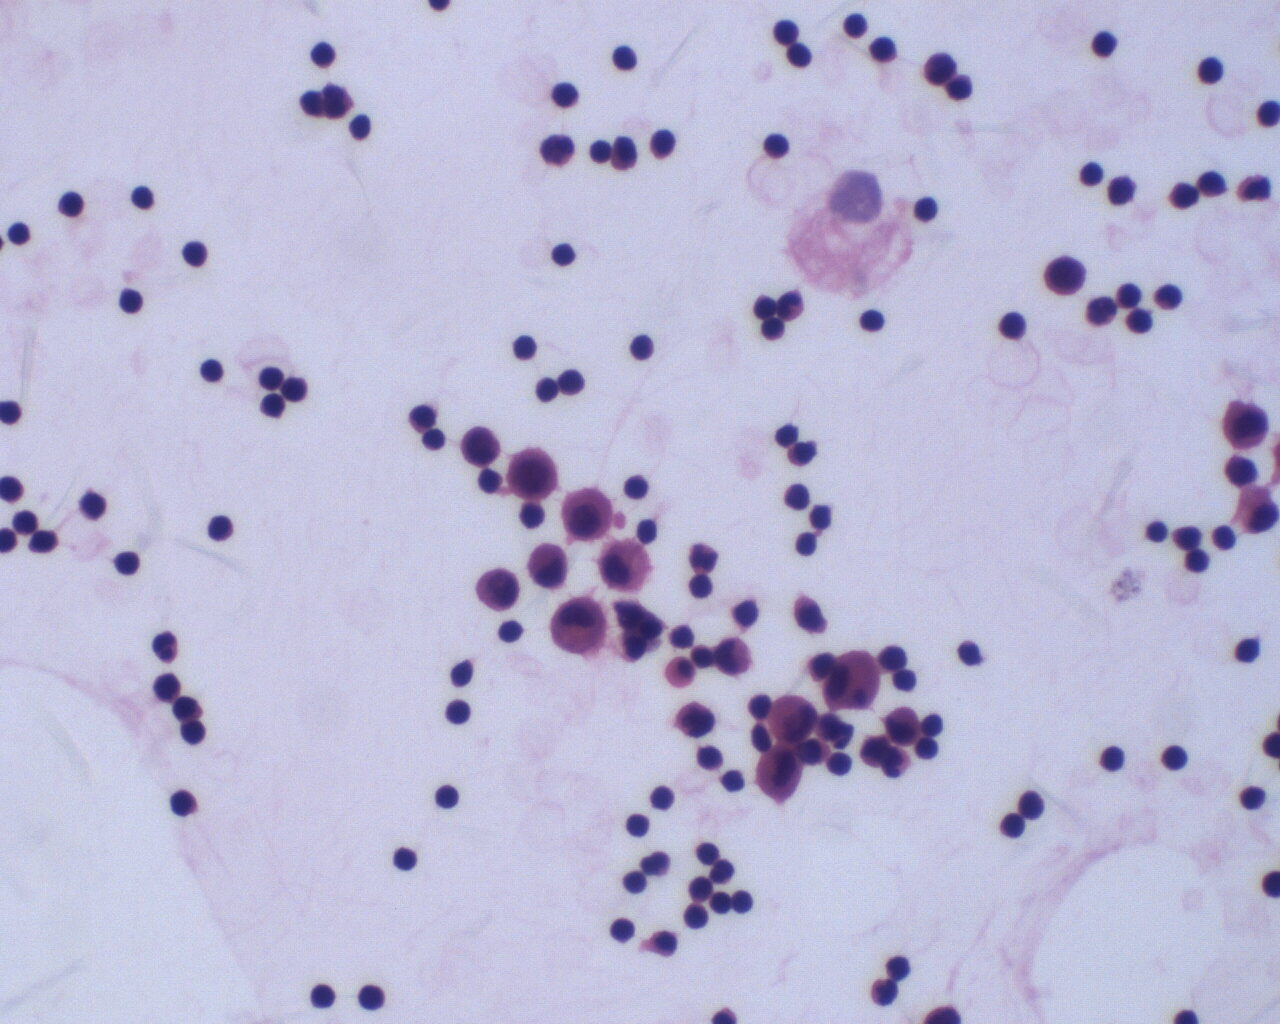ab: (752, 743, 809, 802), (1219, 396, 1272, 453), (766, 691, 817, 745), (1041, 250, 1091, 300), (473, 564, 520, 614), (456, 425, 508, 469), (674, 700, 720, 746), (883, 704, 926, 748)
lymph: (854, 305, 897, 341), (110, 543, 149, 578), (546, 77, 582, 114), (168, 785, 203, 822), (76, 488, 112, 523), (628, 330, 664, 366), (1238, 781, 1269, 819), (348, 112, 378, 149), (1088, 29, 1123, 61), (760, 129, 793, 161), (54, 189, 87, 222), (911, 192, 942, 226), (1161, 741, 1191, 775), (1095, 744, 1127, 775), (997, 809, 1028, 841), (440, 699, 473, 729), (207, 512, 236, 546), (998, 309, 1029, 341), (545, 238, 578, 269), (782, 482, 814, 512), (648, 781, 677, 814), (1078, 159, 1107, 193), (621, 469, 651, 501), (509, 333, 540, 364), (608, 915, 639, 946), (391, 846, 421, 878), (357, 980, 387, 1013), (734, 597, 761, 631), (197, 355, 225, 389), (115, 289, 145, 318), (310, 981, 339, 1011), (435, 781, 463, 811)
meso: (546, 594, 606, 659), (557, 483, 618, 545), (596, 537, 655, 596), (504, 445, 562, 503), (660, 654, 696, 690)
neutro: (686, 539, 723, 576), (1237, 172, 1276, 207), (776, 287, 810, 326), (148, 628, 181, 665)
